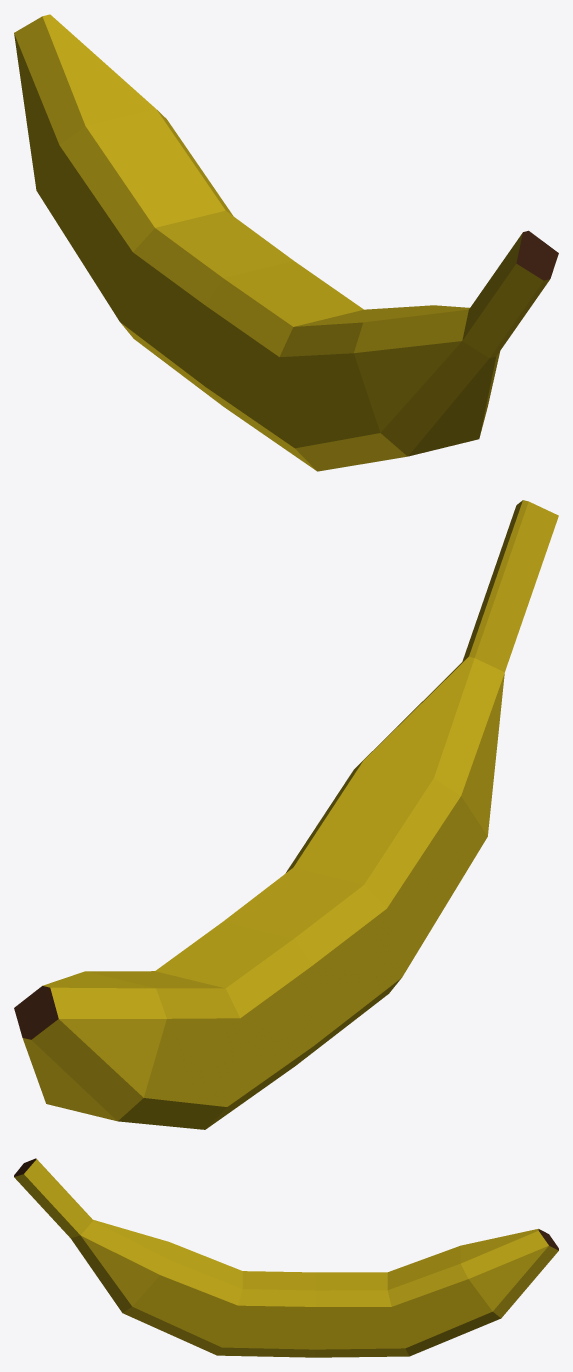
The model's file is Kärpänen_Banaani.fbx.
3 renders of one model, top to bottom at view 1: azimuth 30°, elevation 25°; view 2: azimuth 150°, elevation 25°; view 3: azimuth 270°, elevation 25°, orthographic. The views are drawn at different scales.
Parts seen in each view (by area): view 1: Cube.102; view 2: Cube.102; view 3: Cube.102.
Part boxes in pixels (x1,y1,x2,y2): Cube.102: (14, 14, 558, 471); Cube.102: (14, 500, 558, 1129); Cube.102: (14, 1158, 558, 1357).
Size of the model in its own units: 27.82 by 89.55 by 233.
